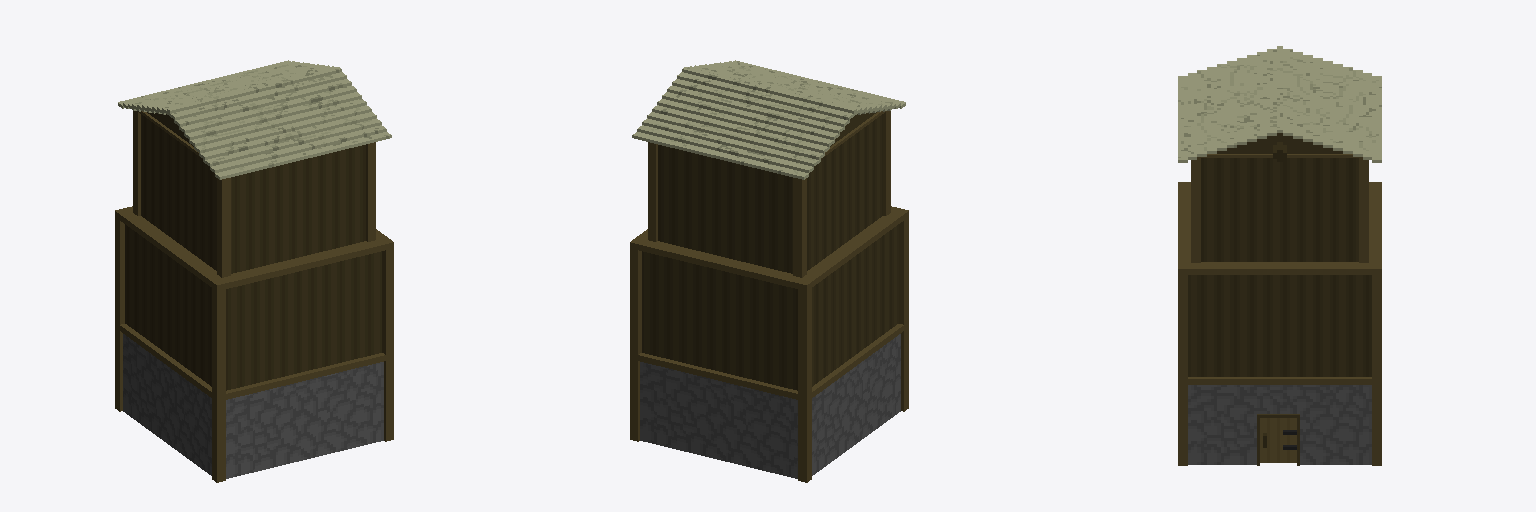
The picture shows the model from 3 angles: view 1: azimuth 30°, elevation 25°; view 2: azimuth 150°, elevation 25°; view 3: azimuth 270°, elevation 25°; orthographic projection.
Visible parts, largest first — view 1: object 1; view 2: object 1; view 3: object 1.
Boxes of the visible parts, x1=… form: object 1: x1=115, y1=60, x2=393, y2=482; object 1: x1=630, y1=60, x2=908, y2=482; object 1: x1=1178, y1=46, x2=1381, y2=465.
Size of the model in its own units: 6.3 by 11.2 by 6.2.
1 materials, 1 textured.